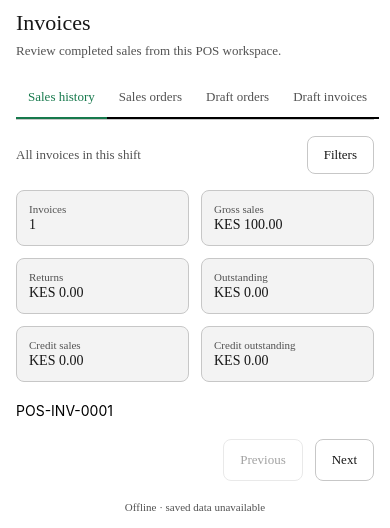
PosInvoicesScreen › changes the history query when switching to sales orders
Click the tab "Sales orders".
click(150, 98)  # box [107,77,194,119]
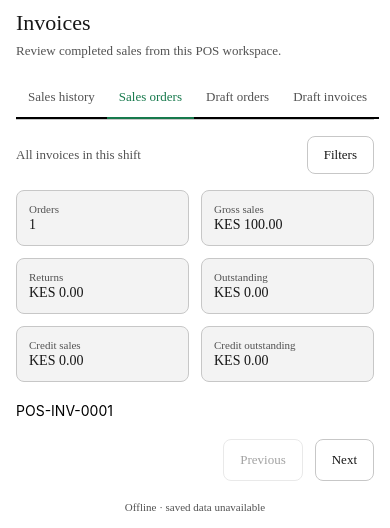
Expected: the text "Orders" is shown, [29,203,59,215]
